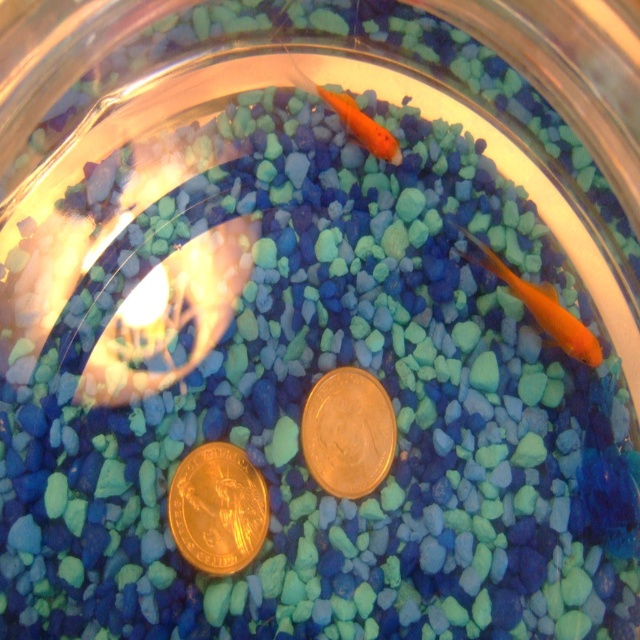Goldfish: (461, 211, 595, 372), (283, 39, 405, 167)
